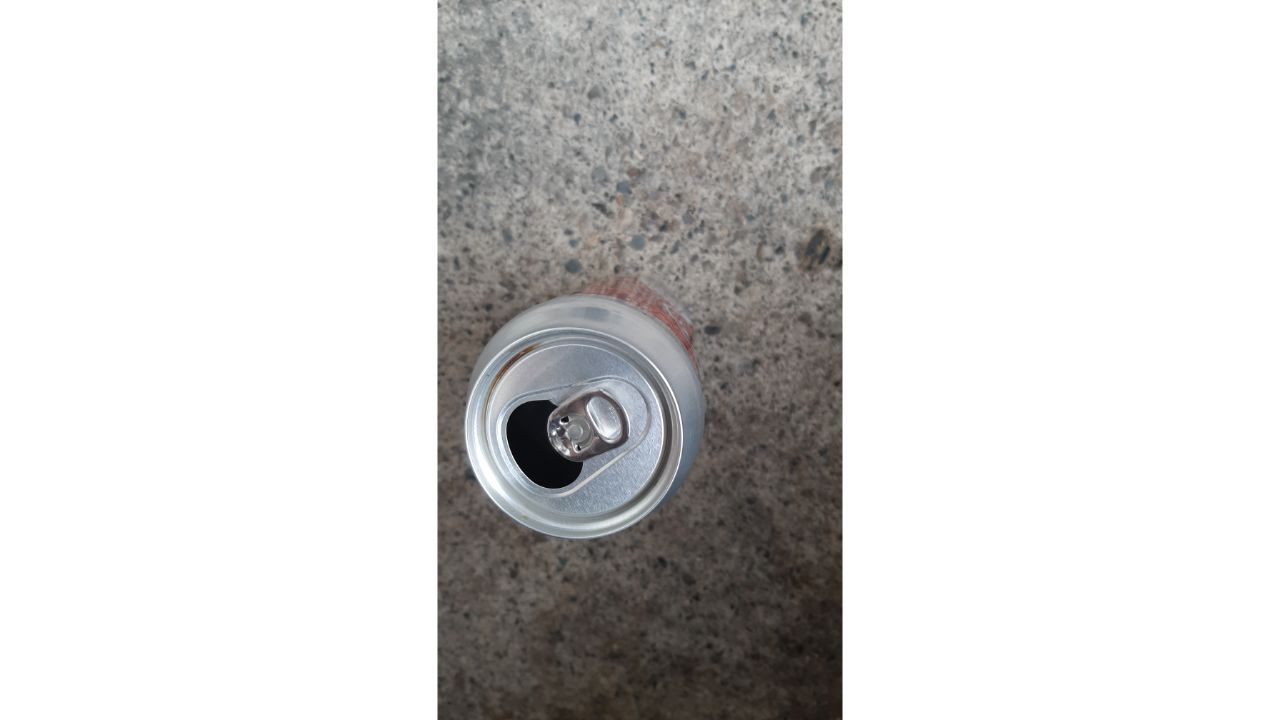Can: (454, 258, 730, 575)
